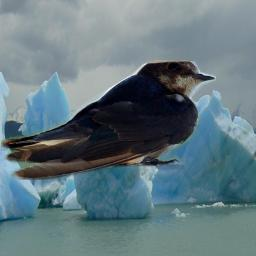Swallow: (1, 60, 216, 180)
